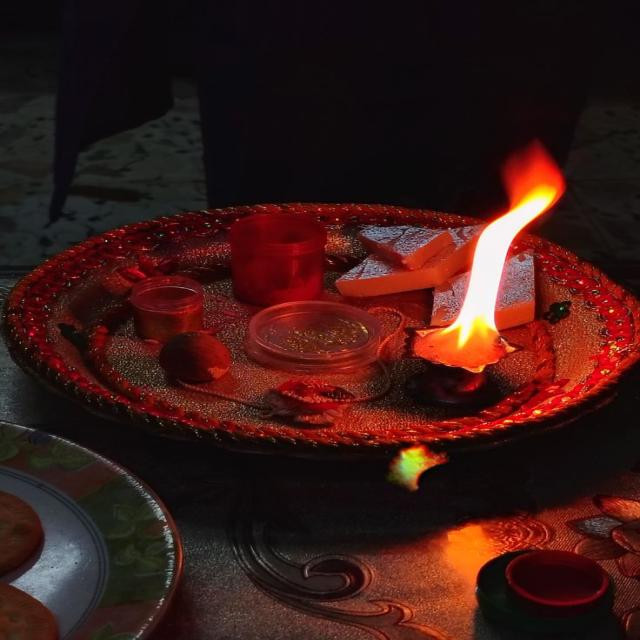fire: (440, 142, 562, 354)
